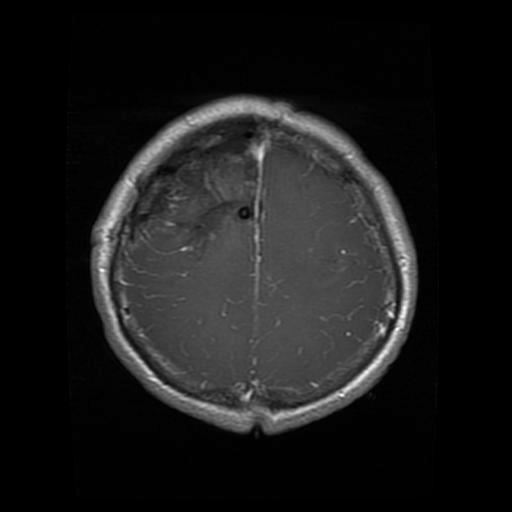Tumour-Glioma: (169, 170, 253, 249)
